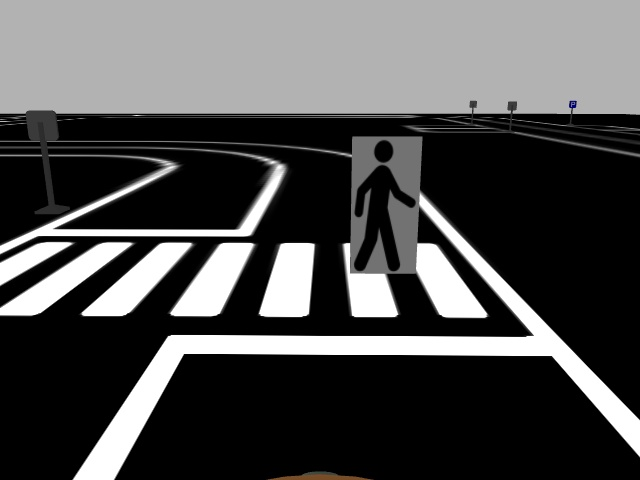parking: (568, 99, 578, 109)
pedestrian: (347, 135, 424, 275)
